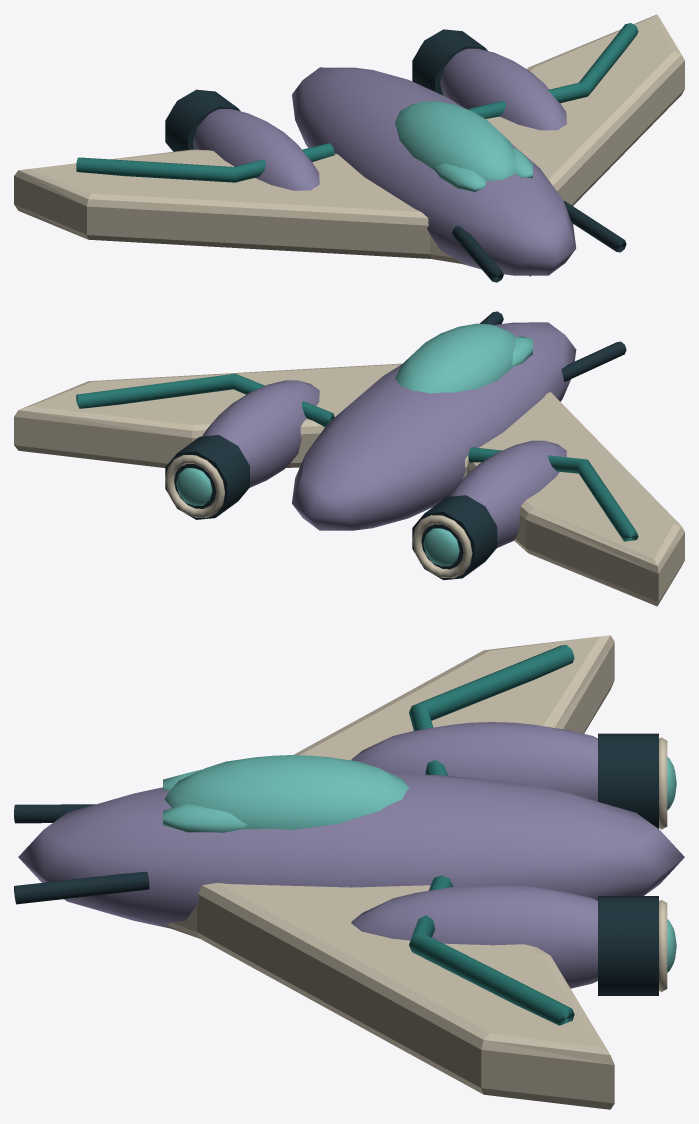
The model's file is alien-manta-lod1.glb.
3 views of the same model, one above another, from view 1: azimuth 30°, elevation 25°; view 2: azimuth 150°, elevation 25°; view 3: azimuth 270°, elevation 25° (orthographic). The views are drawn at different scales.
Parts seen in each view (by area): view 1: shell, emission; view 2: shell, emission; view 3: shell, emission.
Part boxes in pixels (left/top/right/bottom): shell: left=14, top=14, right=684, bottom=282; emission: left=395, top=101, right=532, bottom=191; shell: left=14, top=311, right=684, bottom=606; emission: left=176, top=323, right=532, bottom=566; shell: left=14, top=635, right=684, bottom=1109; emission: left=163, top=755, right=676, bottom=972.
Bounding box in the file's own units: 3.55 × 0.65 × 2.37.
